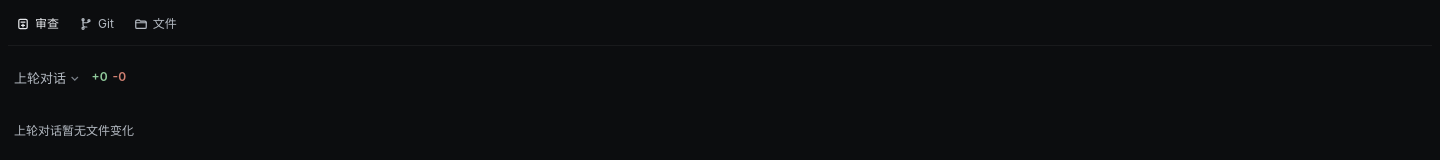
it: ReviewPanel scoped change sets › does not list files for disconnected remote workspace snapshots
This screenshot has width=1440, height=160.
Step 1. Click the button with aria-label "所有文件" → (155, 24), box [126, 9, 185, 39]
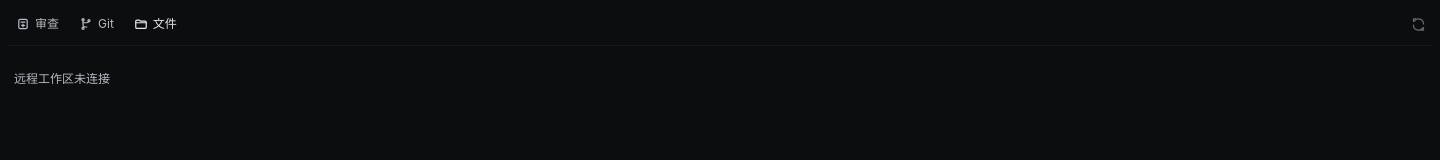
Check: the text "远程工作区未连接" is shown, box [14, 71, 110, 86]
